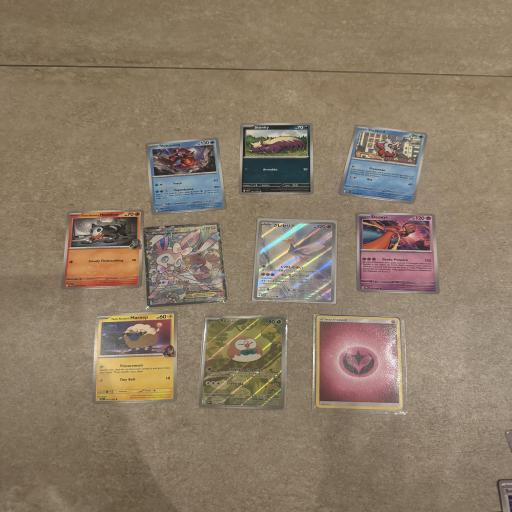card: (198, 314, 286, 410), (316, 315, 403, 411), (93, 310, 178, 405), (142, 222, 228, 308), (338, 123, 428, 205), (59, 209, 146, 290), (356, 212, 440, 295), (254, 220, 337, 303), (146, 137, 228, 215), (239, 122, 314, 195)
